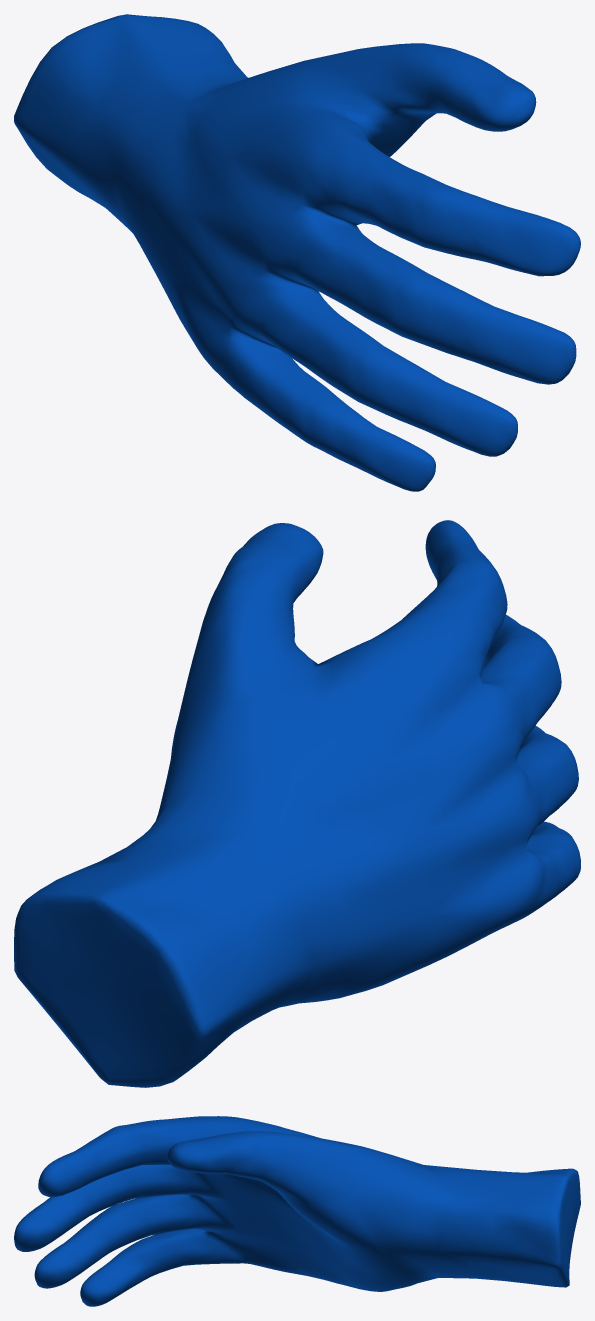
The model's file is reka_1.FBX.
3 renders of one model, top to bottom at view 1: azimuth 30°, elevation 25°; view 2: azimuth 150°, elevation 25°; view 3: azimuth 270°, elevation 25°, orthographic. The views are drawn at different scales.
Visible parts, largest first — view 1: reka; view 2: reka; view 3: reka.
Boxes of the visible parts, <box> form: reka: <box>14,14,580,491</box>; reka: <box>14,520,580,1087</box>; reka: <box>14,1116,580,1306</box>.
Size of the model in its own units: 1.02 by 1.1 by 2.56.
